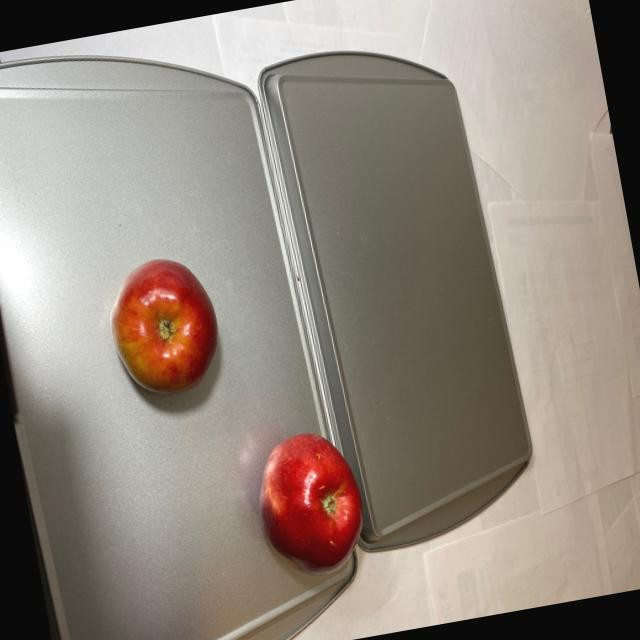apple: (245, 424, 371, 584), (100, 250, 230, 404)
